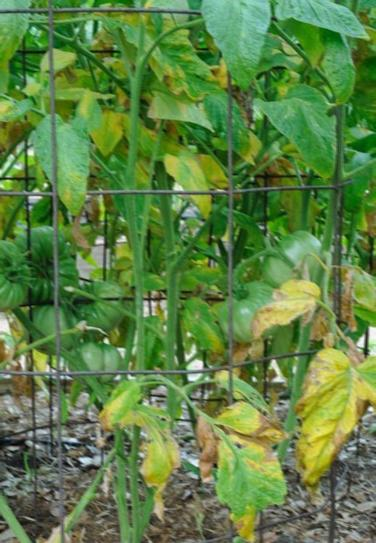Tomato Early blight leaf: (85, 382, 184, 513), (196, 403, 286, 543), (295, 345, 363, 480), (245, 275, 317, 353), (162, 153, 212, 217), (90, 105, 126, 156)
Tomato leaf: (268, 80, 337, 175), (203, 0, 269, 96), (276, 0, 366, 32)
